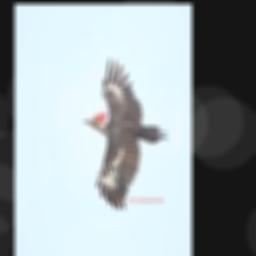Woodpecker: (85, 56, 169, 209)
